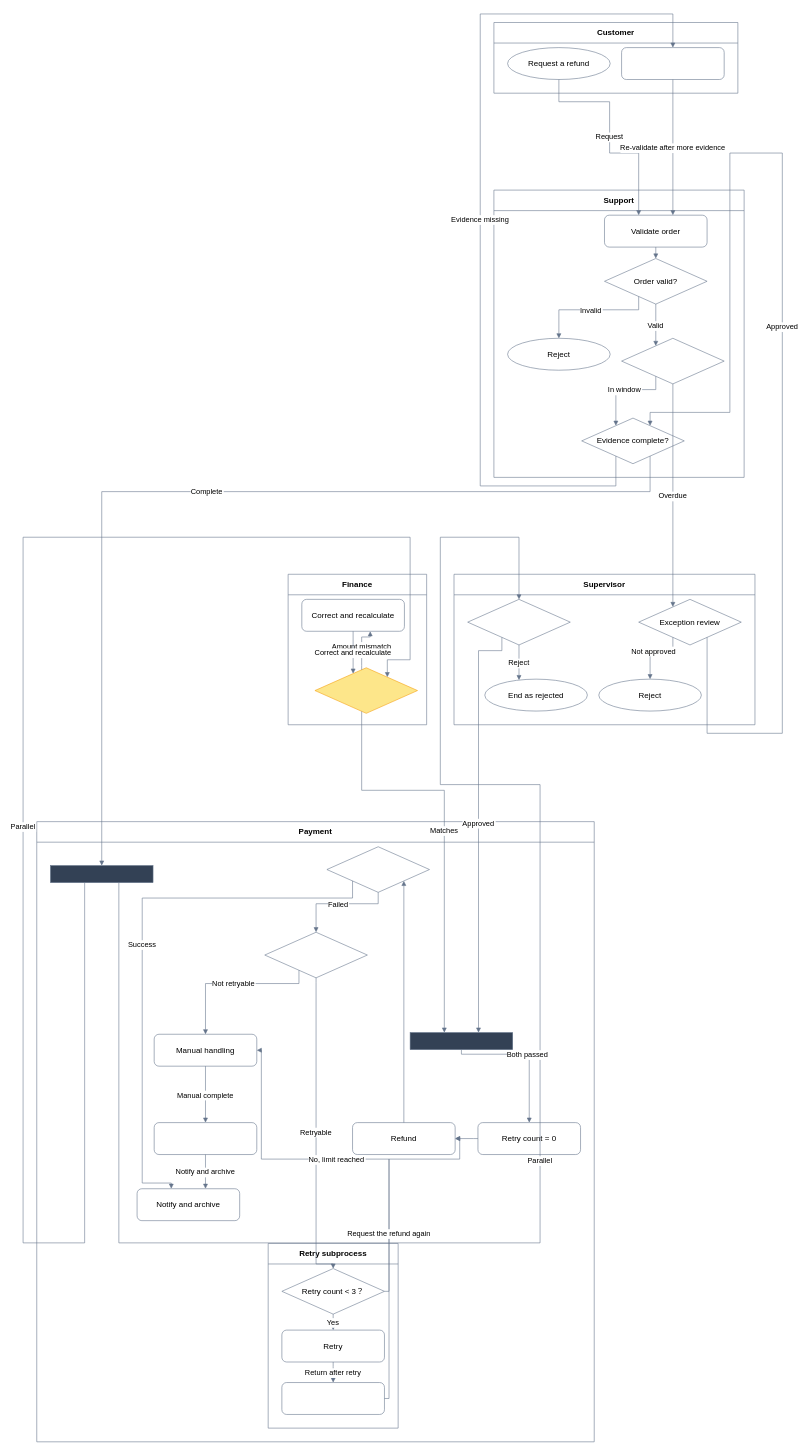
The diagram is 808 pixels wide and 1452 high, and some of its shapes have lost their labels. The shapes that lost their labels are listed below. From the top down, each one's centre as x and y in pixels, then its label:
[672,63]: Submit more evidence
[672,361]: Within the window?
[518,622]: Supervisor review
[366,690]: Finance calculation
[101,874]: Parallel start
[377,869]: Refund successful?
[315,955]: Retryable?
[461,1041]: Parallel join
[205,1138]: Done
[332,1398]: Retry count + 1
